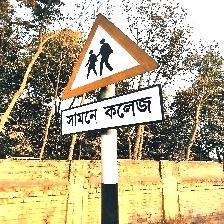College-in-front: (60, 3, 172, 139)
